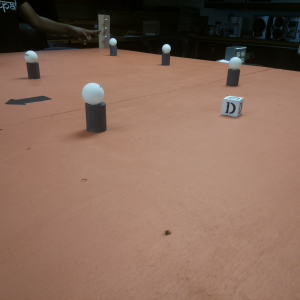blockD: (224, 96, 243, 118)
corner: (98, 14, 109, 49)
obstacle: (83, 81, 107, 137), (227, 55, 241, 85), (27, 49, 39, 80), (160, 43, 172, 66), (108, 38, 119, 57)
start: (4, 91, 52, 110)
